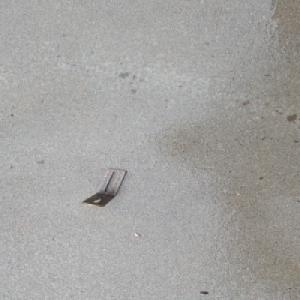MetalPart: (81, 167, 128, 206)
